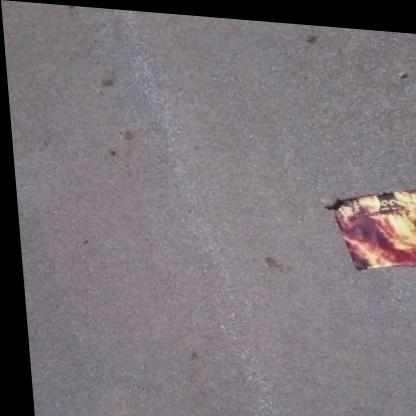fire-poster: (317, 173, 416, 271)
